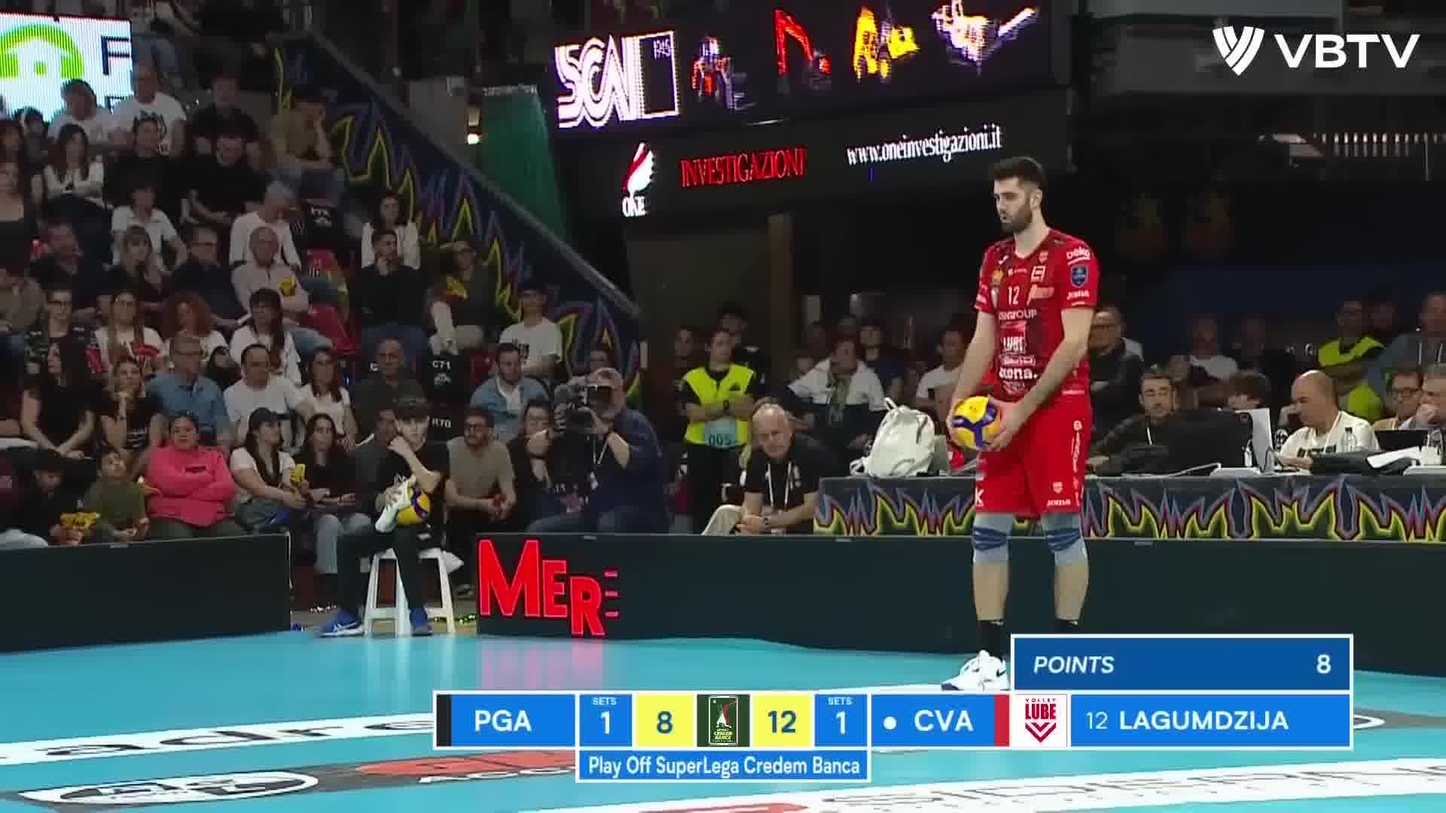balls: (944, 391, 1009, 452)
